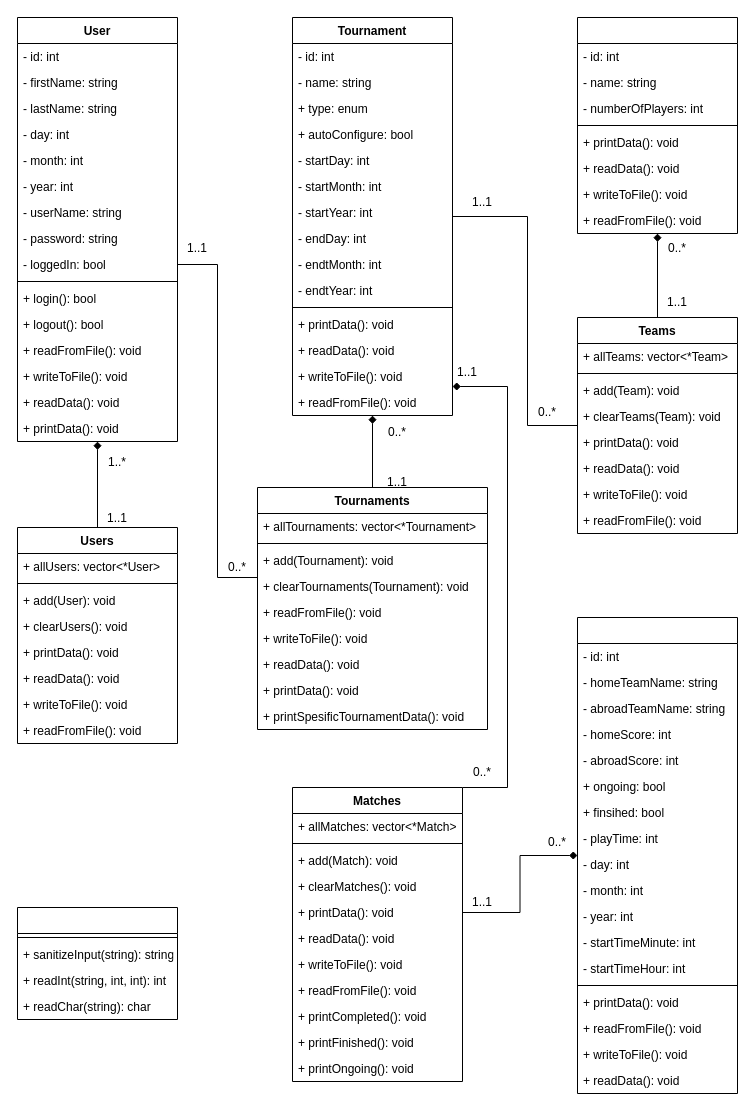
Image size: 755x1114. Some labels were removed from this diagram. The box of each missing label's shape, as (x1, y1, x2, y2) in pixels:
HelperFunctions: (16, 906, 178, 1020)
Match: (576, 616, 738, 1094)
Team: (576, 16, 738, 234)
